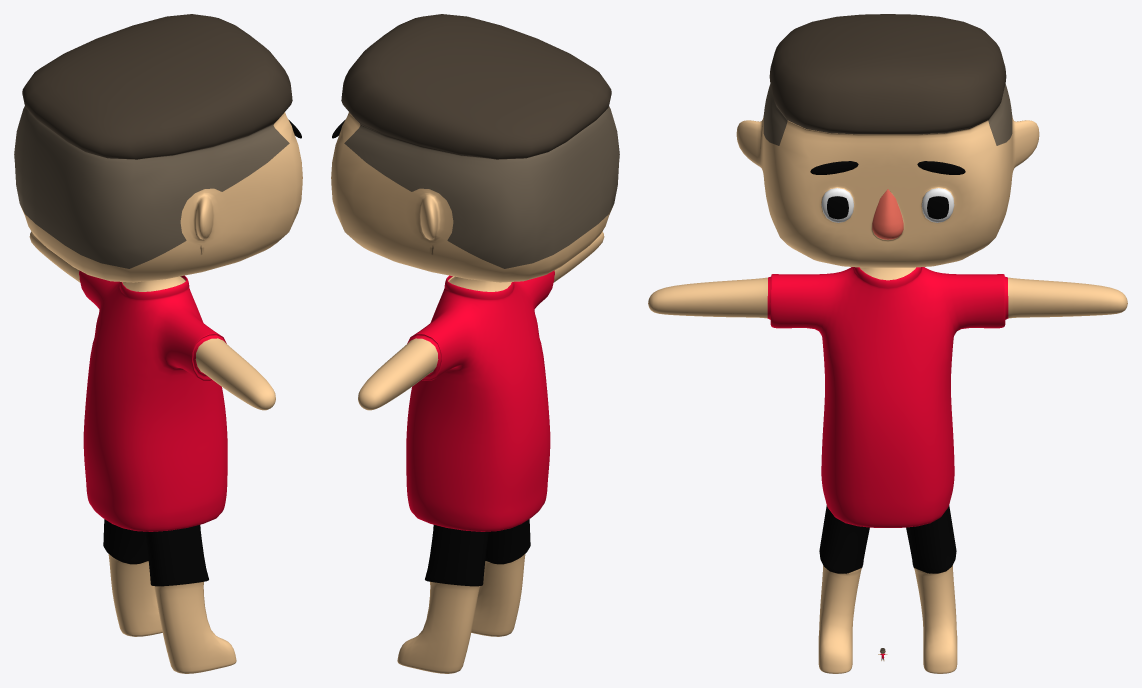
The model's file is HUGO2.fbx.
3 renders of one model, left to right at view 1: azimuth 30°, elevation 25°; view 2: azimuth 150°, elevation 25°; view 3: azimuth 270°, elevation 25°, orthographic. The views are drawn at different scales.
Parts seen in each view (by area): view 1: pCube7.001; view 2: pCube7.001; view 3: pCube7.001.
Boxes of the visible parts, x1,y1,x2,y2 form: pCube7.001: [14, 14, 302, 673]; pCube7.001: [331, 14, 619, 673]; pCube7.001: [648, 14, 1127, 673].
Bounding box in the file's own units: 79.33 × 207 × 145.
